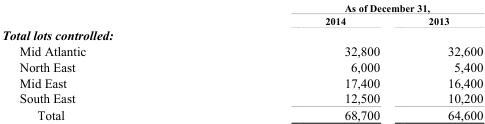table: (1, 1, 482, 121)
table column: (1, 1, 204, 121), (204, 1, 403, 121), (403, 1, 482, 121)
table column header: (1, 1, 482, 26)
table projected row header: (1, 26, 482, 42)
table row: (1, 26, 482, 42), (1, 42, 482, 58), (1, 58, 482, 74), (1, 74, 482, 90), (1, 90, 482, 106), (1, 106, 482, 121), (1, 13, 482, 26), (1, 1, 482, 13)
table spanning cell: (204, 1, 482, 13)
